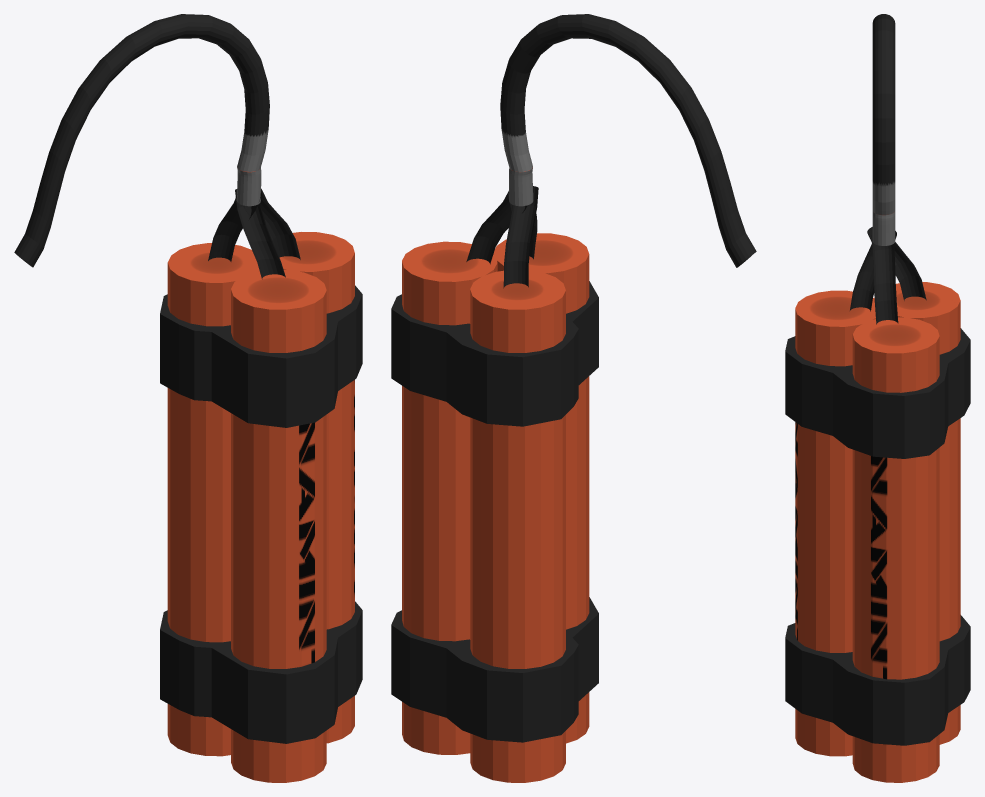
File: dinamite.fbx
The picture shows the model from 3 angles, left to right: view 1: azimuth 30°, elevation 25°; view 2: azimuth 150°, elevation 25°; view 3: azimuth 270°, elevation 25°; orthographic projection. The views are drawn at different scales.
Visible parts, largest first — view 1: Cilindro; view 2: Cilindro; view 3: Cilindro.
Part boxes in pixels (bbox=[...]): Cilindro: bbox=[14, 14, 362, 782]; Cilindro: bbox=[391, 14, 756, 782]; Cilindro: bbox=[785, 14, 970, 782].
Bounding box in the file's own units: 0.1085 × 0.224 × 0.0556.
